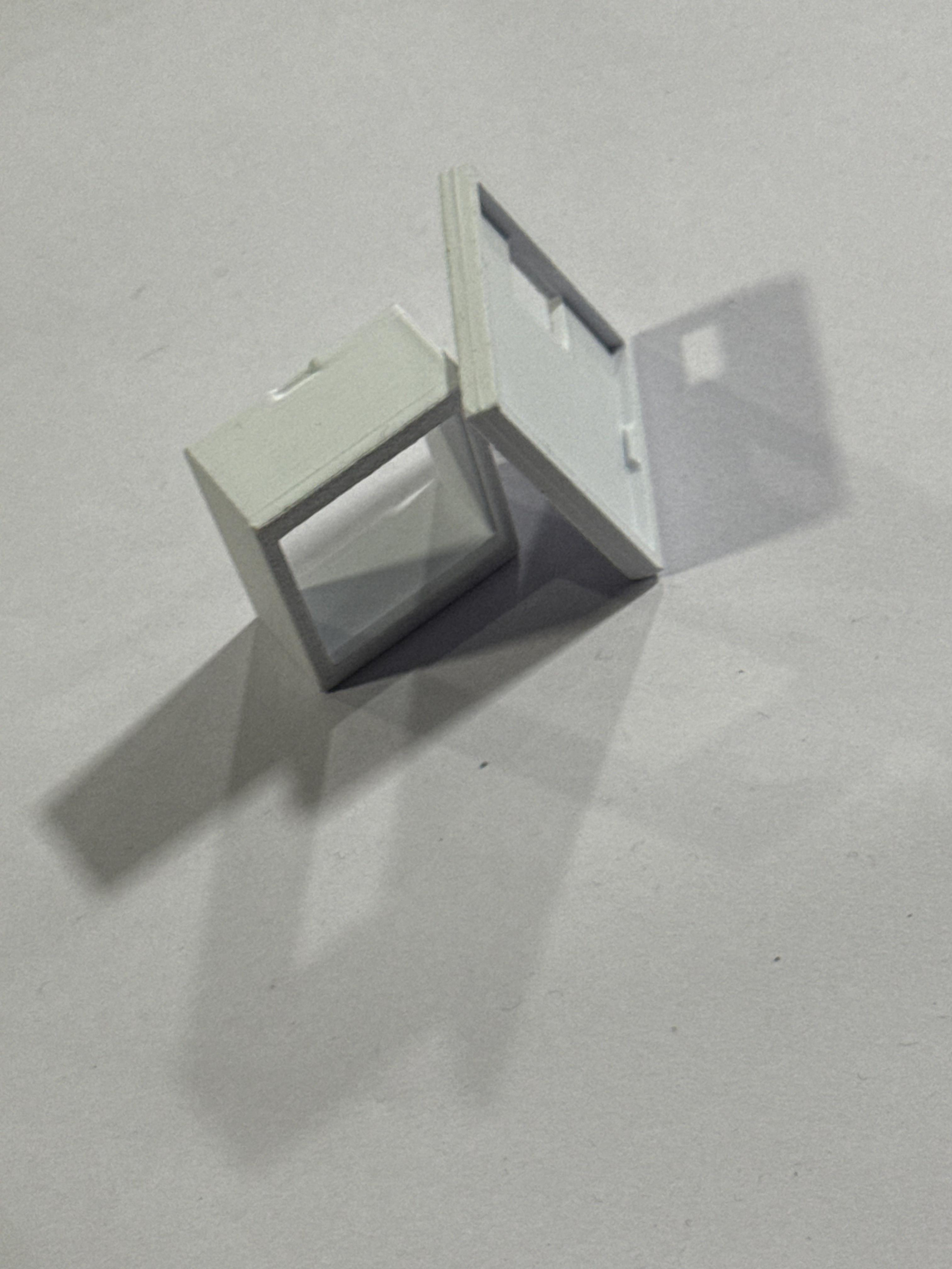enclosure: (182, 162, 664, 692)
